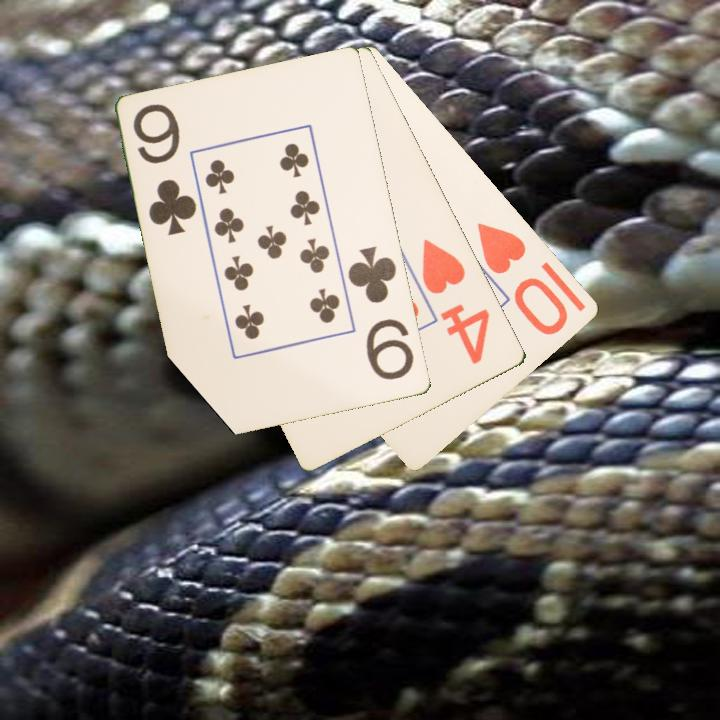10h: (473, 218, 572, 339)
4h: (418, 235, 494, 368)
9c: (344, 243, 418, 383), (129, 100, 200, 239)
